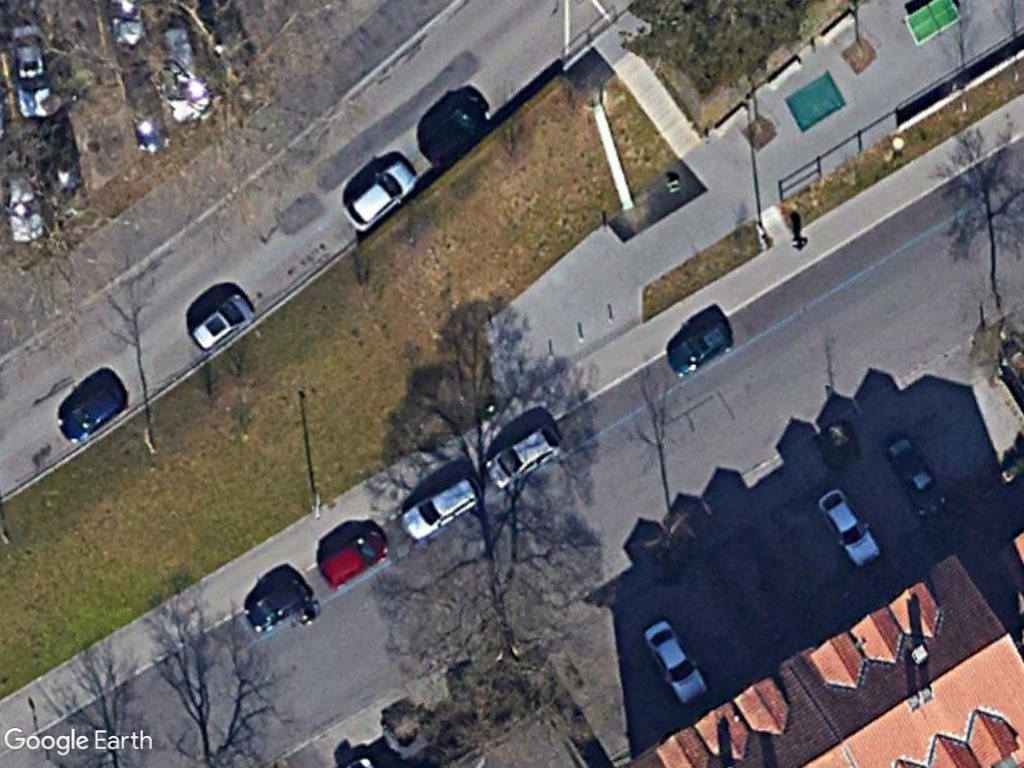car: (640, 619, 709, 705), (338, 158, 418, 232), (399, 475, 478, 543), (814, 488, 881, 567), (484, 423, 564, 489), (318, 525, 389, 588), (665, 320, 735, 380), (191, 292, 257, 351)
